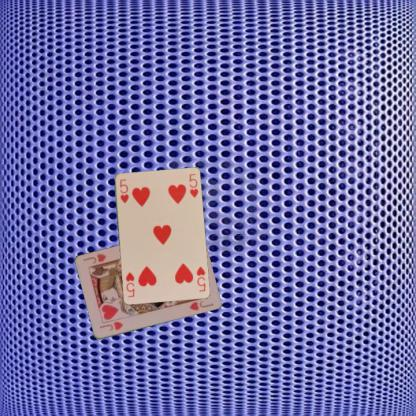5h: (117, 176, 130, 204), (194, 263, 206, 292)
Jh: (96, 319, 124, 332)
